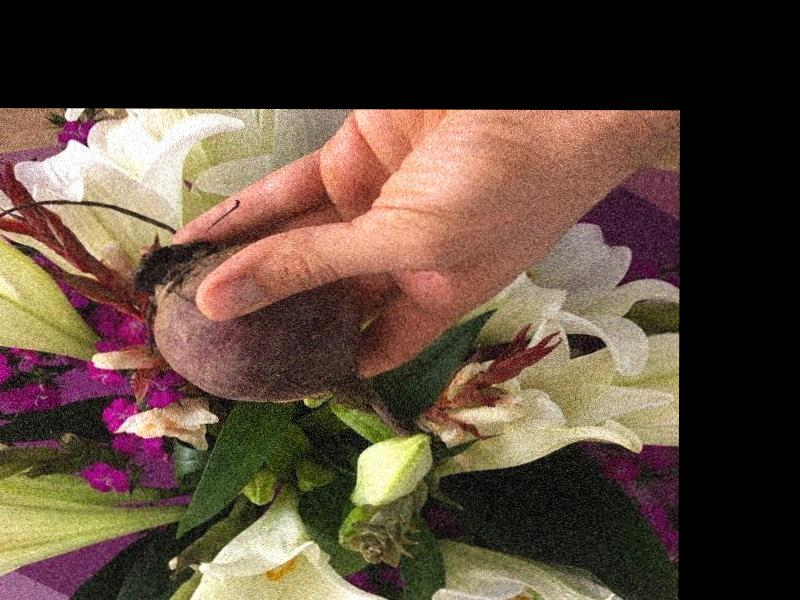Beet: (133, 241, 417, 439)
